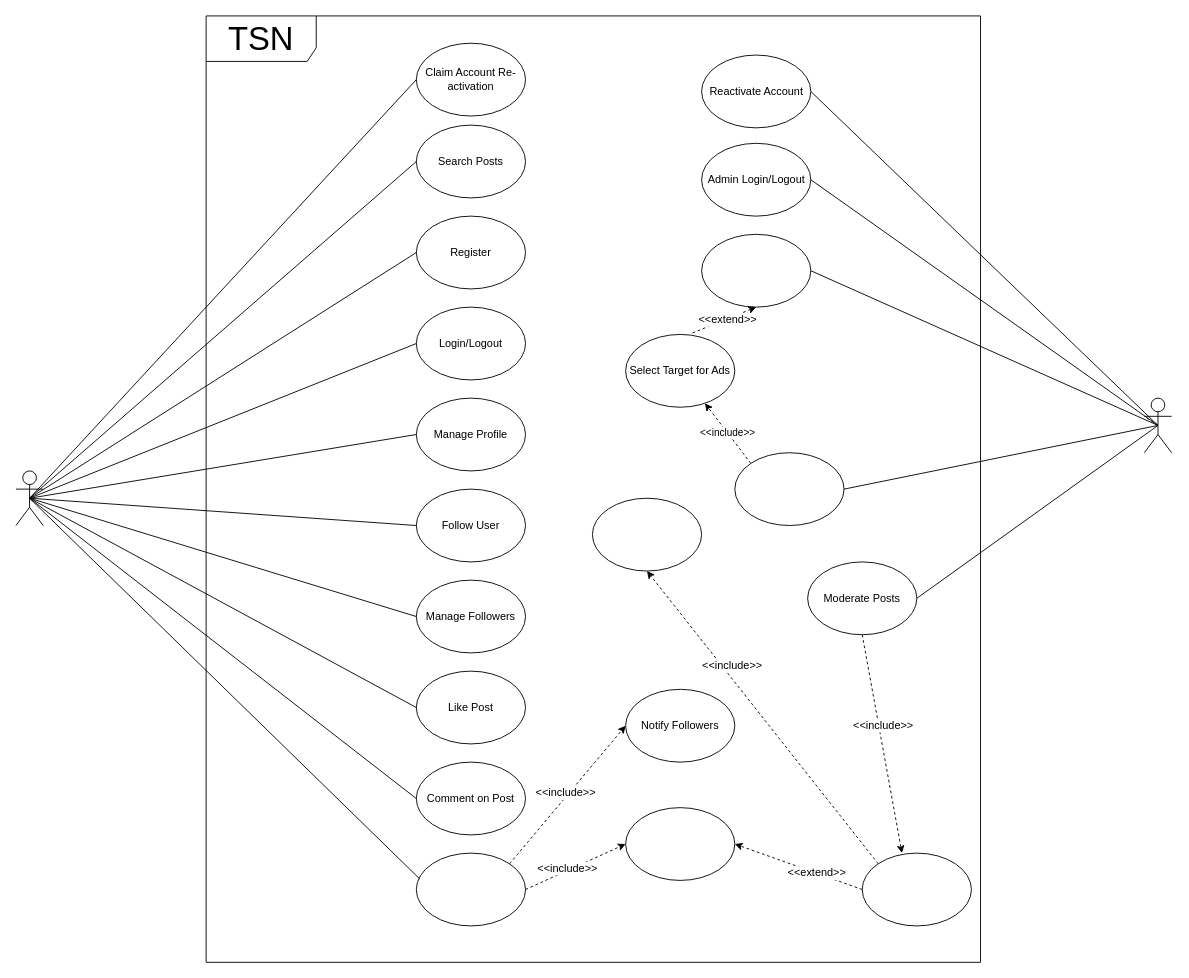
Some shapes in this 1189 by 978 pixel diagram are drawn without their labels. Each missing label, with the box of its shape:
Account Deactivation: (861, 852, 971, 926)
Admin: (1143, 397, 1172, 453)
Filter Posts: (625, 807, 735, 880)
Manage Ads: (734, 452, 844, 526)
Notify By Email: (592, 497, 702, 571)
Post: (415, 852, 526, 926)
Push Ads: (701, 233, 811, 307)
User: (15, 470, 43, 526)
